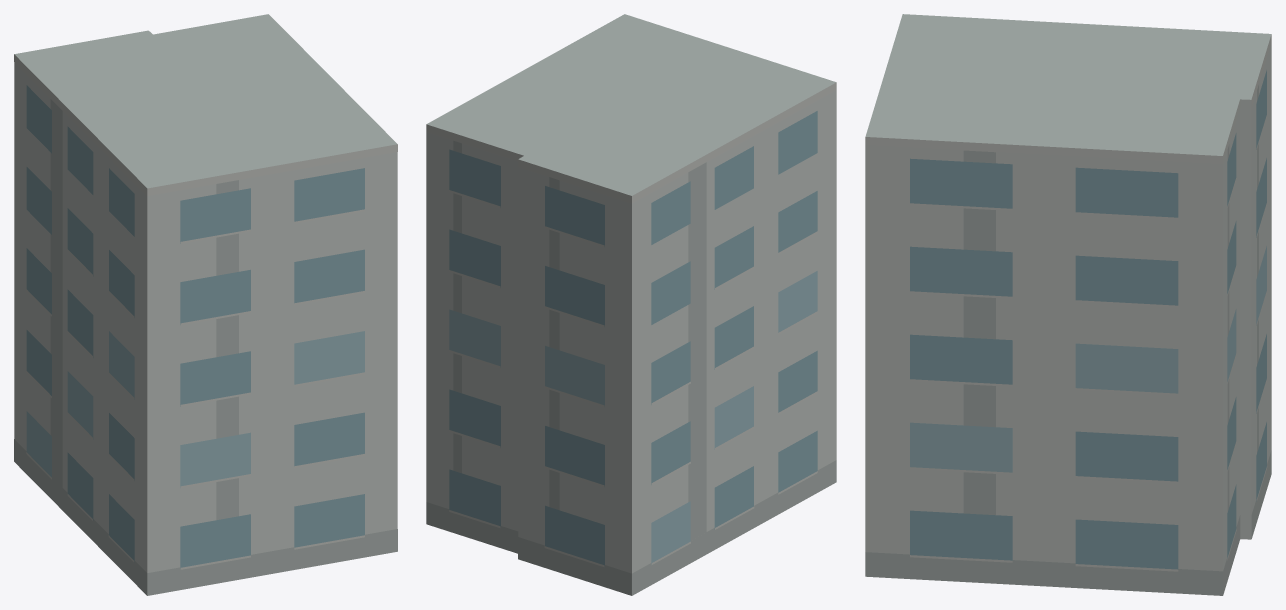
File: survey-upis-32686759.glb
3 renders of one model, left to right at view 1: azimuth 30°, elevation 25°; view 2: azimuth 150°, elevation 25°; view 3: azimuth 270°, elevation 25°, orthographic. The views are drawn at different scales.
Visible parts, largest first — view 1: survey-upis-32686759.tmp; view 2: survey-upis-32686759.tmp; view 3: survey-upis-32686759.tmp.
Part boxes in pixels (x1,y1,x2,y2): survey-upis-32686759.tmp: [14, 14, 397, 595]; survey-upis-32686759.tmp: [426, 14, 836, 595]; survey-upis-32686759.tmp: [865, 14, 1271, 595].
Bounding box in the file's own units: 8.88 × 12.8 × 10.73.
